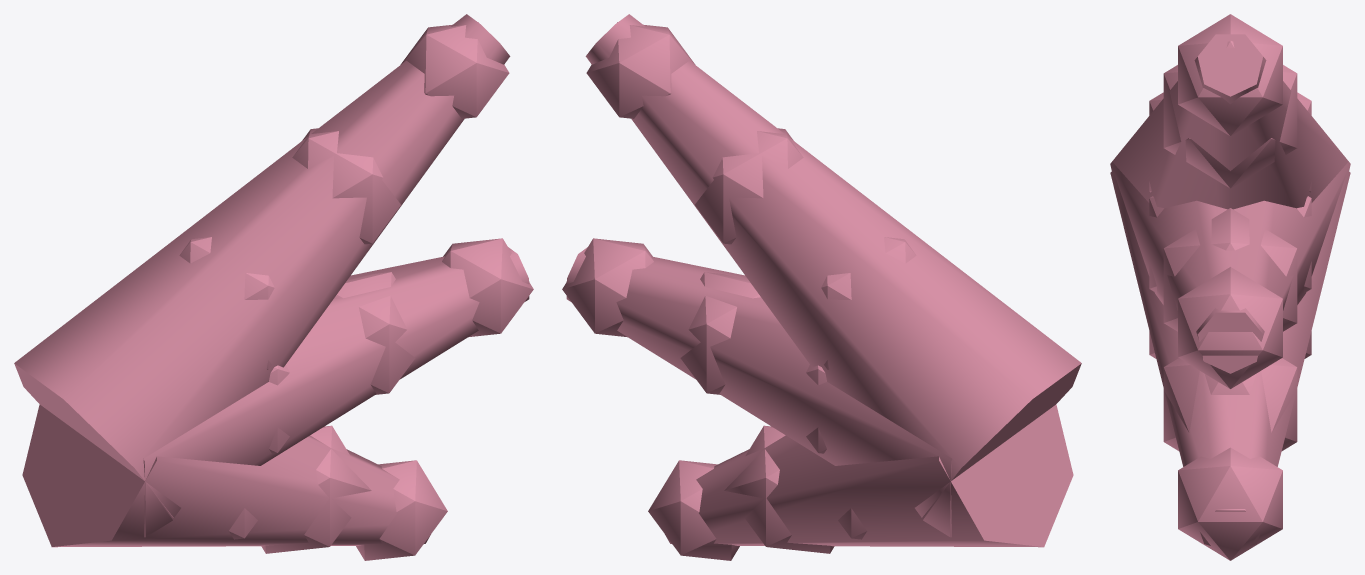
File: axolotl_gills.glb
The picture shows the model from 3 angles, left to right: view 1: azimuth 30°, elevation 25°; view 2: azimuth 150°, elevation 25°; view 3: azimuth 270°, elevation 25°; orthographic projection. The views are drawn at different scales.
Visible parts, largest first — view 1: axolotl_gills; view 2: axolotl_gills; view 3: axolotl_gills.
Part boxes in pixels (x1=…): axolotl_gills: x1=14, y1=14, x2=533, y2=560; axolotl_gills: x1=562, y1=14, x2=1081, y2=560; axolotl_gills: x1=1110, y1=14, x2=1350, y2=560.
Size of the model in its own units: 0.1067 by 0.1096 by 0.0429.
